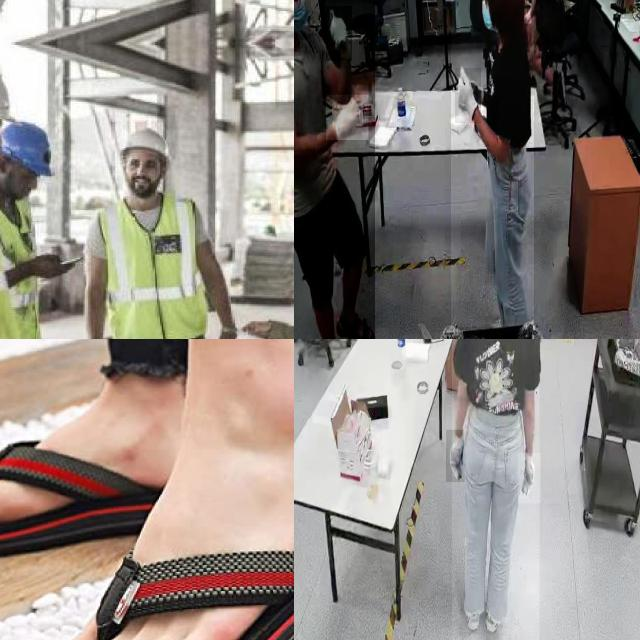Sandals: (35, 376, 294, 640), (0, 444, 153, 564)
face_mask: (294, 0, 311, 39)
face_nomask: (124, 154, 160, 193)
hand_glove: (326, 95, 368, 140), (326, 6, 352, 61), (455, 68, 481, 123), (518, 453, 542, 504), (446, 430, 465, 483)
hand_noglove: (31, 248, 77, 284), (241, 318, 272, 339), (212, 329, 242, 339), (524, 8, 532, 24)
head_nohelmet: (0, 117, 56, 179), (119, 126, 173, 160)
person: (70, 129, 238, 339), (294, 0, 375, 339), (451, 0, 534, 327), (452, 339, 540, 640)
shoes: (462, 579, 481, 632), (483, 594, 503, 637)
vest: (96, 195, 209, 339)
